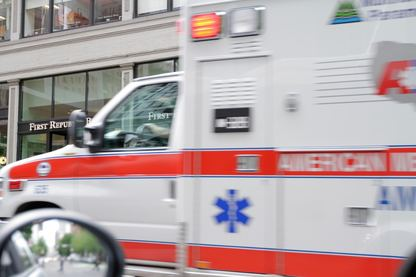ambulance: (0, 0, 416, 277)
car: (0, 209, 123, 276)
